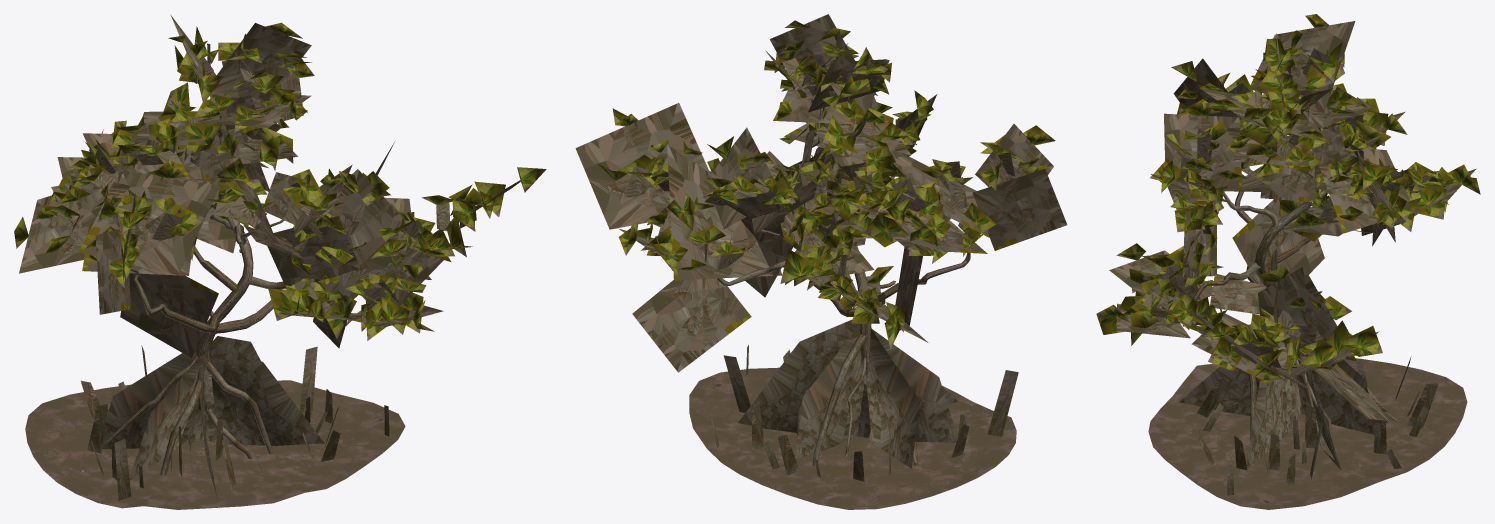
3 renders of one model, left to right at view 1: azimuth 30°, elevation 25°; view 2: azimuth 150°, elevation 25°; view 3: azimuth 270°, elevation 25°, orthographic. The views are drawn at different scales.
Visible parts, largest first — view 1: SM_MangroveTree.001_0, Plane_2; view 2: SM_MangroveTree.001_0, Plane_2; view 3: SM_MangroveTree.001_0, Plane_2.
Boxes of the visible parts, x1,y1,x2,y2 form: SM_MangroveTree.001_0: (14,14,546,508); Plane_2: (25,380,405,509); SM_MangroveTree.001_0: (575,14,1067,481); Plane_2: (689,367,1016,509); SM_MangroveTree.001_0: (1096,14,1480,495); Plane_2: (1148,358,1467,509).
Size of the model in its own units: 14.43 by 12.65 by 10.37.
3 materials, 3 textured.
